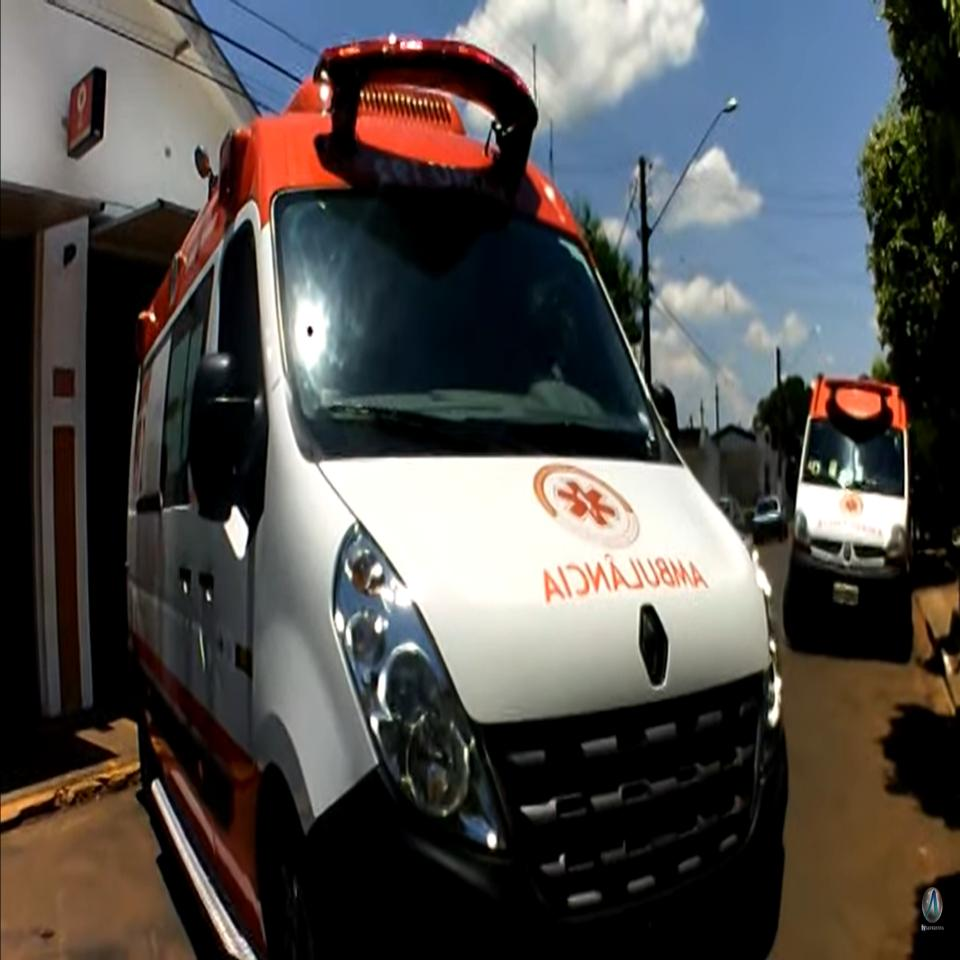bombeiro: (120, 32, 792, 960), (787, 372, 916, 661)
